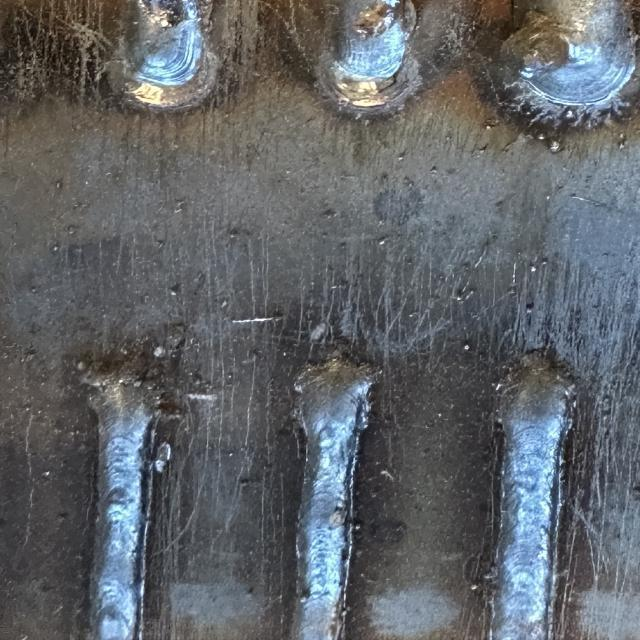Excess Reinforcement: (317, 51, 422, 116), (108, 51, 218, 109), (80, 361, 173, 410), (497, 349, 577, 394), (295, 356, 382, 394)
Spatters: (563, 106, 580, 120), (320, 209, 338, 219), (550, 140, 562, 154), (352, 520, 365, 532), (618, 132, 627, 148), (168, 284, 180, 295), (525, 302, 535, 314), (485, 121, 495, 129), (537, 132, 547, 140), (378, 236, 388, 244), (52, 242, 60, 251), (477, 146, 486, 154), (430, 165, 437, 174), (397, 152, 404, 160), (530, 264, 537, 272), (540, 258, 548, 265), (463, 345, 470, 350)
